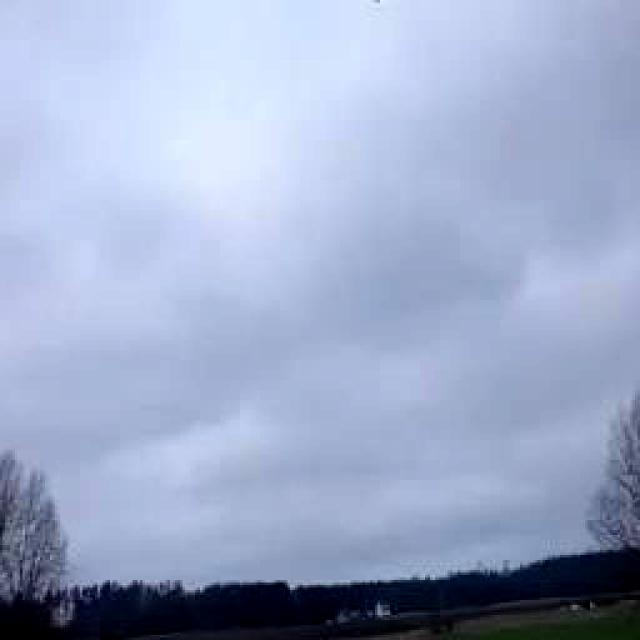bird: (360, 0, 412, 20)
